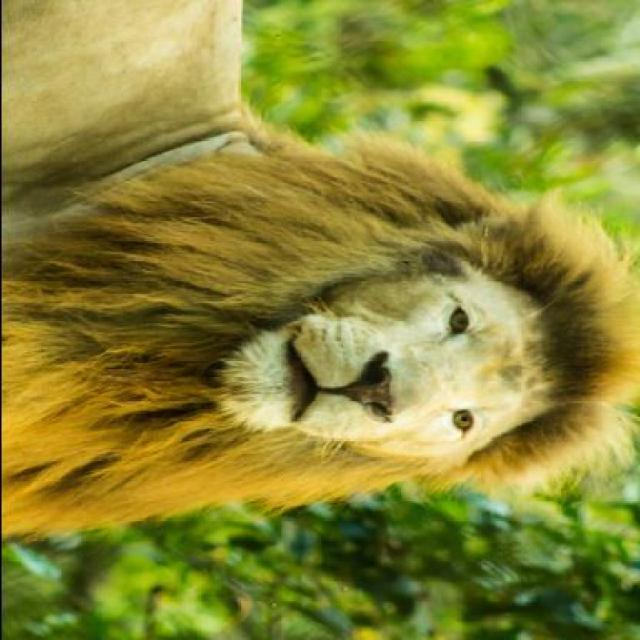Lion: (2, 1, 636, 552)
